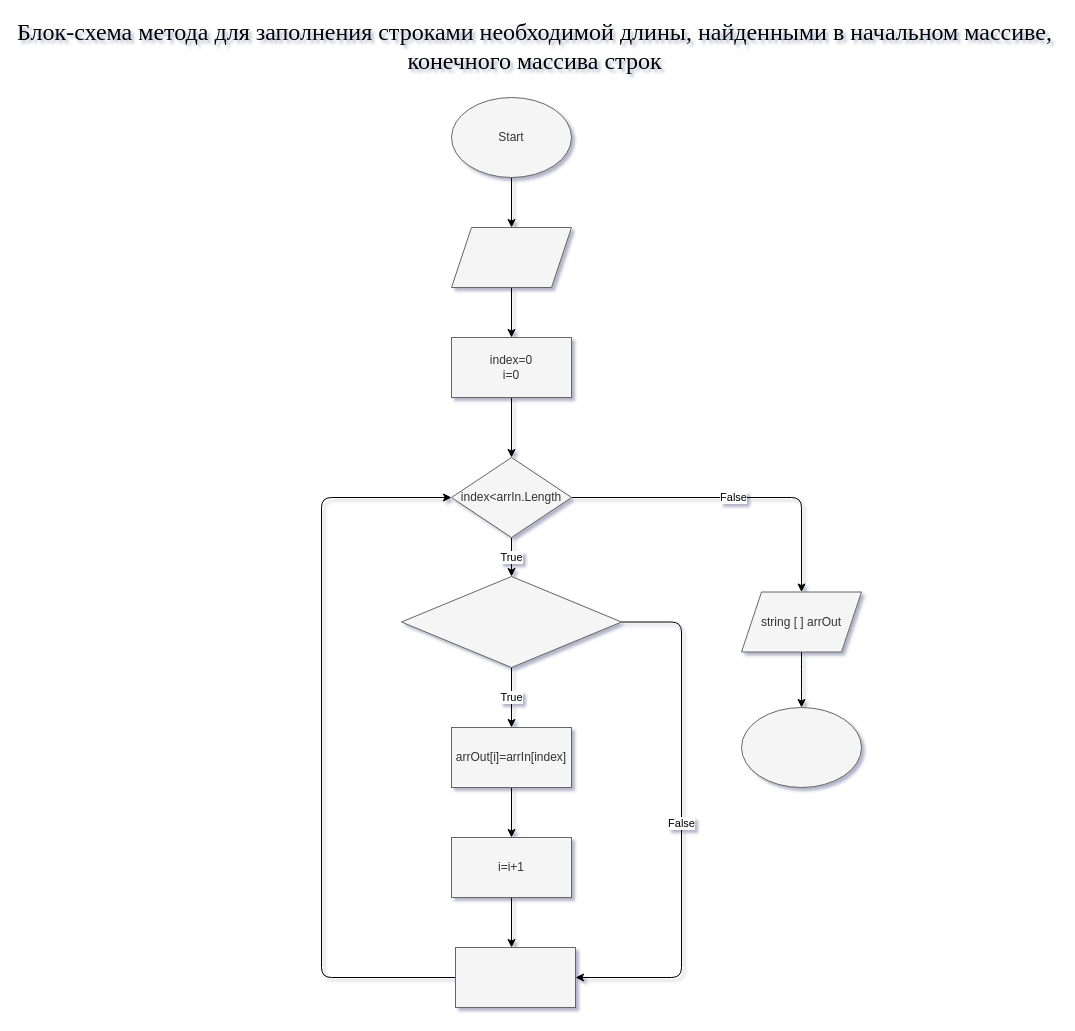
The diagram is 1075 pixels wide and 1031 high, and some of its shapes have lost their labels. Here are the shapes that lost their labels. From the top down, the box of each, then its label:
(450, 226, 572, 288): string [ ] arrIn string [ ] arrOut val
(400, 576, 622, 668): arrIn[index].Length<=val
(740, 706, 862, 788): End
(454, 946, 576, 1008): index=index+1
